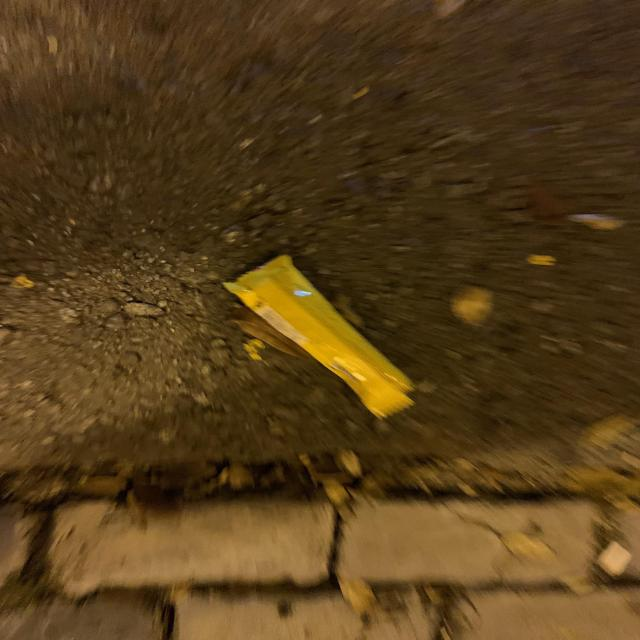litter: (219, 244, 431, 432)
